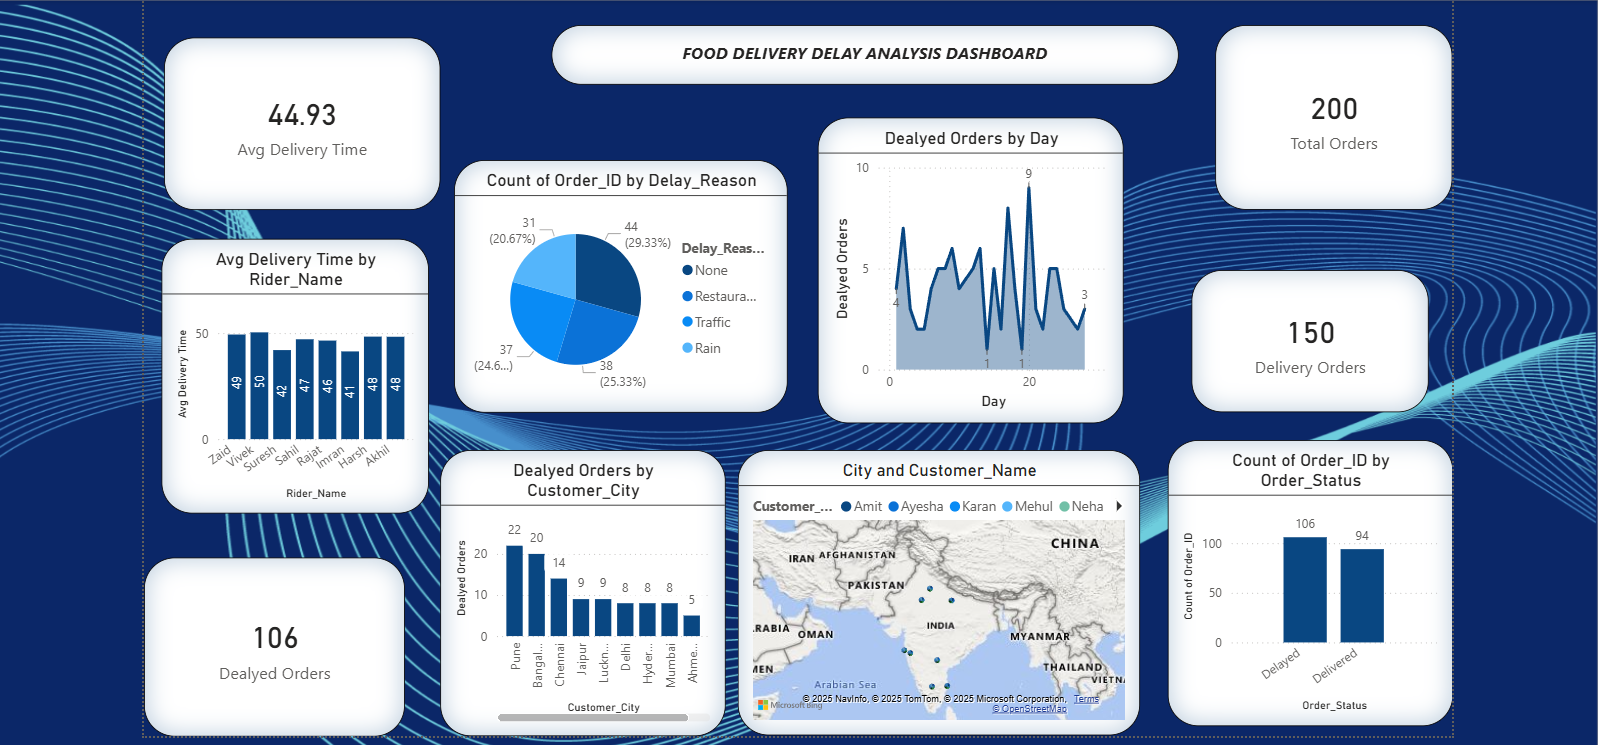

The dashboard page shown, as its layout file describes it:
{"tool":"powerbi","page":{"name":"Page 1","canvas":[1280,720],"ordinal":0},"visuals":[{"type":"card","fields":{"Values":["Orders.Total Orders"]},"box":[1048,24.5,232.3,181],"z":0},{"type":"card","fields":{"Values":["Delivery_Logs.Delivery Orders"]},"box":[1024.7,264.1,232.3,139.4],"z":1000},{"type":"card","fields":{"Values":["Orders.Avg Delivery Time"]},"box":[19.6,36.7,270.2,168.8],"z":2000},{"type":"card","fields":{"Values":["Orders.Cancelled Orders"]},"box":[0,545.4,255.6,174.9],"z":3000},{"type":"clusteredColumnChart","fields":{"Category":["Orders.Order_Status"],"Y":["Orders.Order_ID"]},"box":[1001.5,430.4,278.8,280],"z":4000},{"type":"lineStackedColumnComboChart","fields":{"Category":["Customers.Customer_City"],"Y":["Orders.Dealyed Orders"]},"box":[289.8,440.2,278.8,280],"z":5000},{"type":"donutChart","fields":{"Category":["Delivery_Logs.Delay_Reason"],"Y":["Orders.Order_ID"]},"box":[303.3,156.5,326.5,247],"z":6000},{"type":"columnChart","fields":{"Category":["Delivery_Partners.Rider_Name"],"Y":["Orders.Avg Delivery Time"]},"box":[17.1,233.6,261.7,269],"z":7000},{"type":"lineChart","fields":{"Category":["Orders.Order_Date.Variation.Date Hierarchy.Day"],"Y":["Orders.Dealyed Orders"]},"box":[659.1,114.9,299.6,299.6],"z":8000},{"type":"map","fields":{"Category":["Restaurants.City"],"Series":["Customers.Customer_Name"]},"box":[580.8,440.2,393.8,278.8],"z":9000},{"type":"textbox","box":[398.6,24.5,613.9,58.7],"z":10000}]}

Visuals, with their boxes in screenshot pixels (x1, y1, x2, y2):
card - Orders.Total Orders: x1=1211 y1=21 x2=1448 y2=206
card - Delivery_Logs.Delivery Orders: x1=1187 y1=265 x2=1424 y2=408
card - Orders.Avg Delivery Time: x1=161 y1=33 x2=437 y2=206
card - Orders.Cancelled Orders: x1=141 y1=552 x2=402 y2=731
clusteredColumnChart - Orders.Order_Status x Orders.Order_ID: x1=1163 y1=435 x2=1448 y2=721
lineStackedColumnComboChart - Customers.Customer_City x Orders.Dealyed Orders: x1=437 y1=445 x2=722 y2=731
donutChart - Delivery_Logs.Delay_Reason x Orders.Order_ID: x1=451 y1=156 x2=784 y2=408
columnChart - Delivery_Partners.Rider_Name x Orders.Avg Delivery Time: x1=159 y1=234 x2=426 y2=509
lineChart - Orders.Order_Date.Variation.Date Hierarchy.Day x Orders.Dealyed Orders: x1=814 y1=113 x2=1120 y2=419
map - Restaurants.City x Customers.Customer_Name: x1=734 y1=445 x2=1136 y2=729
textbox: x1=548 y1=21 x2=1175 y2=81
